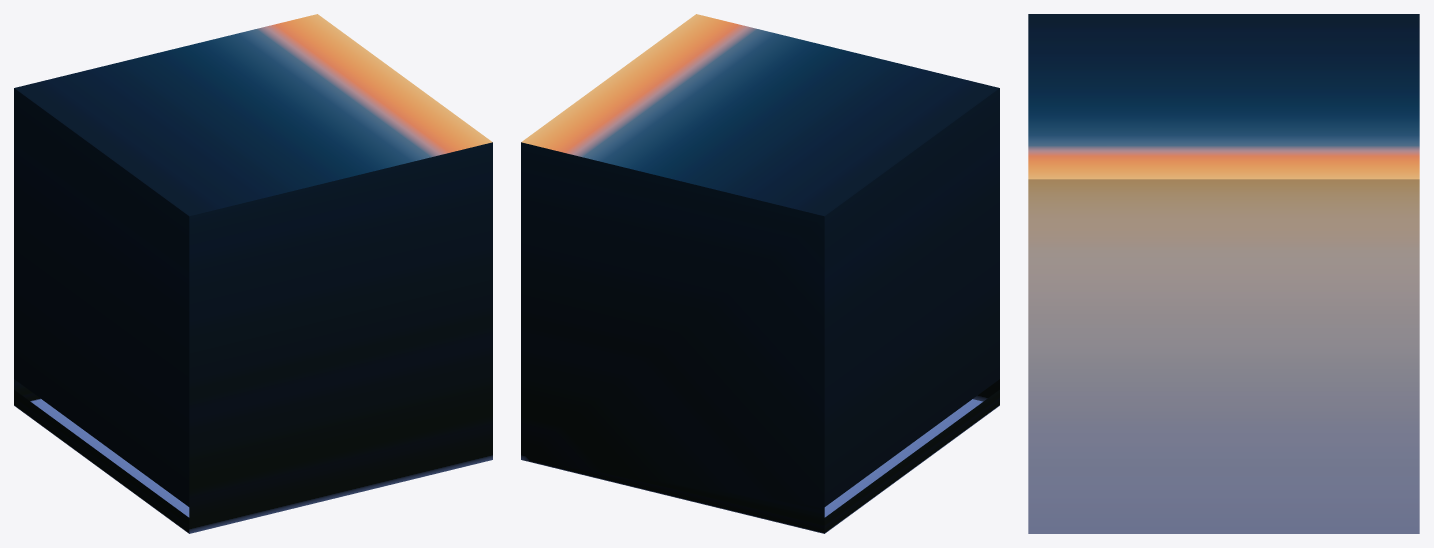
The model's file is blue_room_02.fbx.
3 views of the same model, side by side, from view 1: azimuth 30°, elevation 25°; view 2: azimuth 150°, elevation 25°; view 3: azimuth 270°, elevation 25° (orthographic). The views are drawn at different scales.
Parts seen in each view (by area): view 1: pCube14; view 2: pCube14; view 3: pCube14.
Boxes of the visible parts, <box> form: pCube14: <box>14,14,492,533</box>; pCube14: <box>521,14,999,533</box>; pCube14: <box>1028,14,1419,533</box>.
Size of the model in its own units: 10 by 10 by 10.
